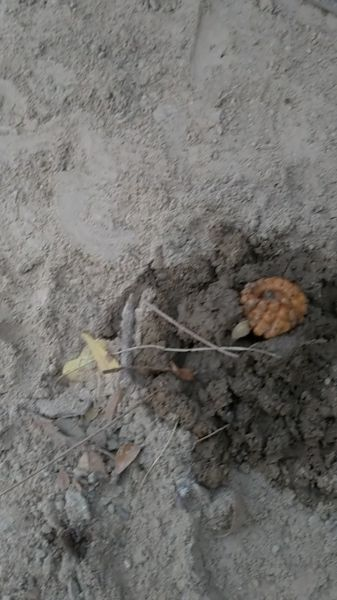eggs: (234, 274, 311, 341)
